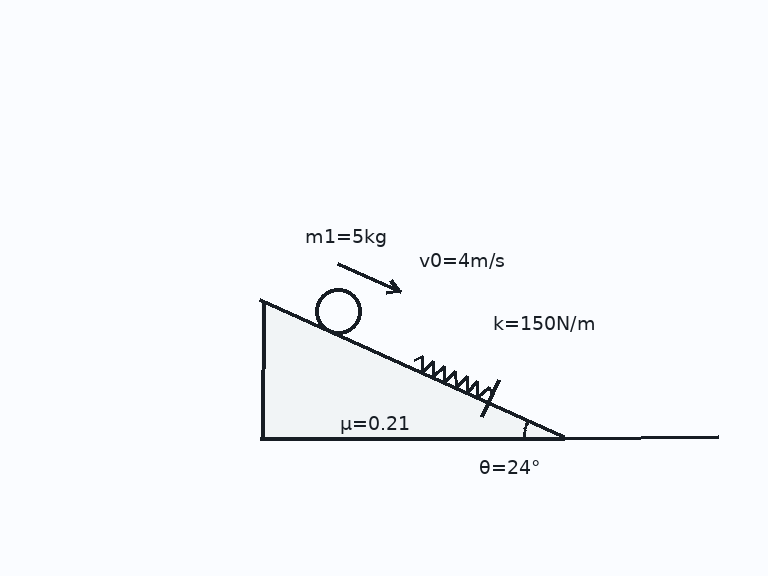ball: (313, 286, 363, 336)
ramp: (260, 300, 566, 439)
spring: (411, 354, 494, 399)
